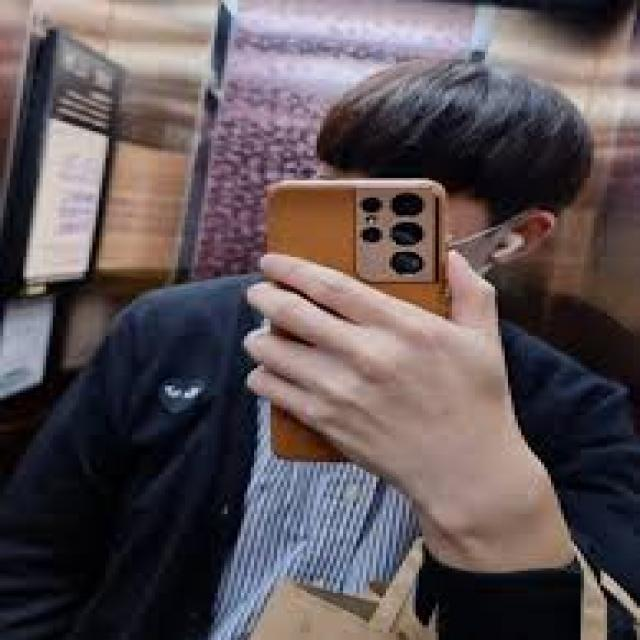Phone: (264, 178, 450, 462)
